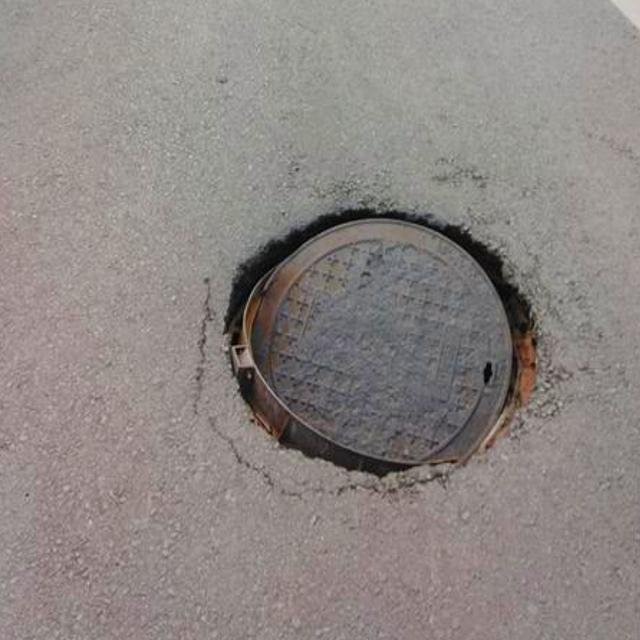circle: (172, 184, 574, 502)
